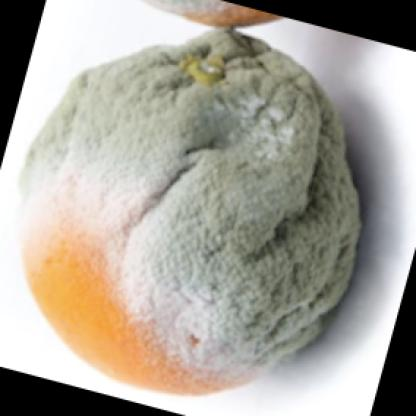rotten: (17, 28, 365, 397)
